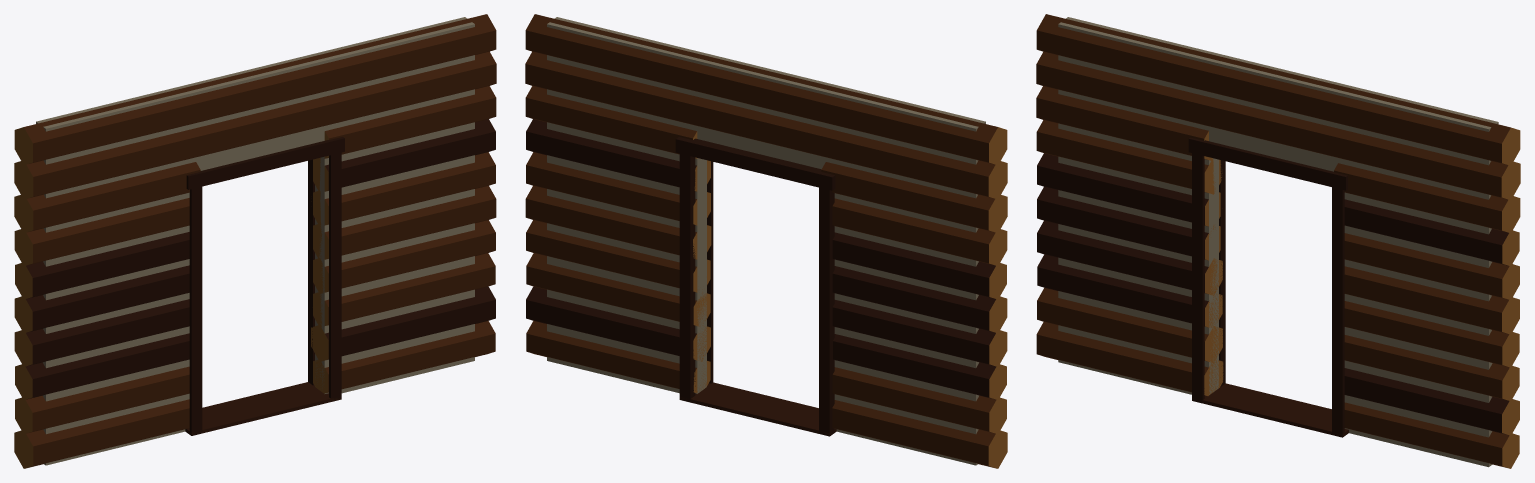
File: SM_Bld_Wall_Log_Doorway.glb
The picture shows the model from 3 angles, left to right: view 1: azimuth 30°, elevation 25°; view 2: azimuth 150°, elevation 25°; view 3: azimuth 330°, elevation 25°; orthographic projection.
Parts seen in each view (by area): view 1: SM_Bld_Wall_Log_Doorway; view 2: SM_Bld_Wall_Log_Doorway; view 3: SM_Bld_Wall_Log_Doorway.
Part boxes in pixels (x1,y1,x2,y2): SM_Bld_Wall_Log_Doorway: [14, 14, 496, 468]; SM_Bld_Wall_Log_Doorway: [525, 14, 1007, 468]; SM_Bld_Wall_Log_Doorway: [1036, 14, 1520, 468].
Bounding box in the file's own units: 4.32 × 3.05 × 0.38.
Materials: 1 (1 with a texture image).
